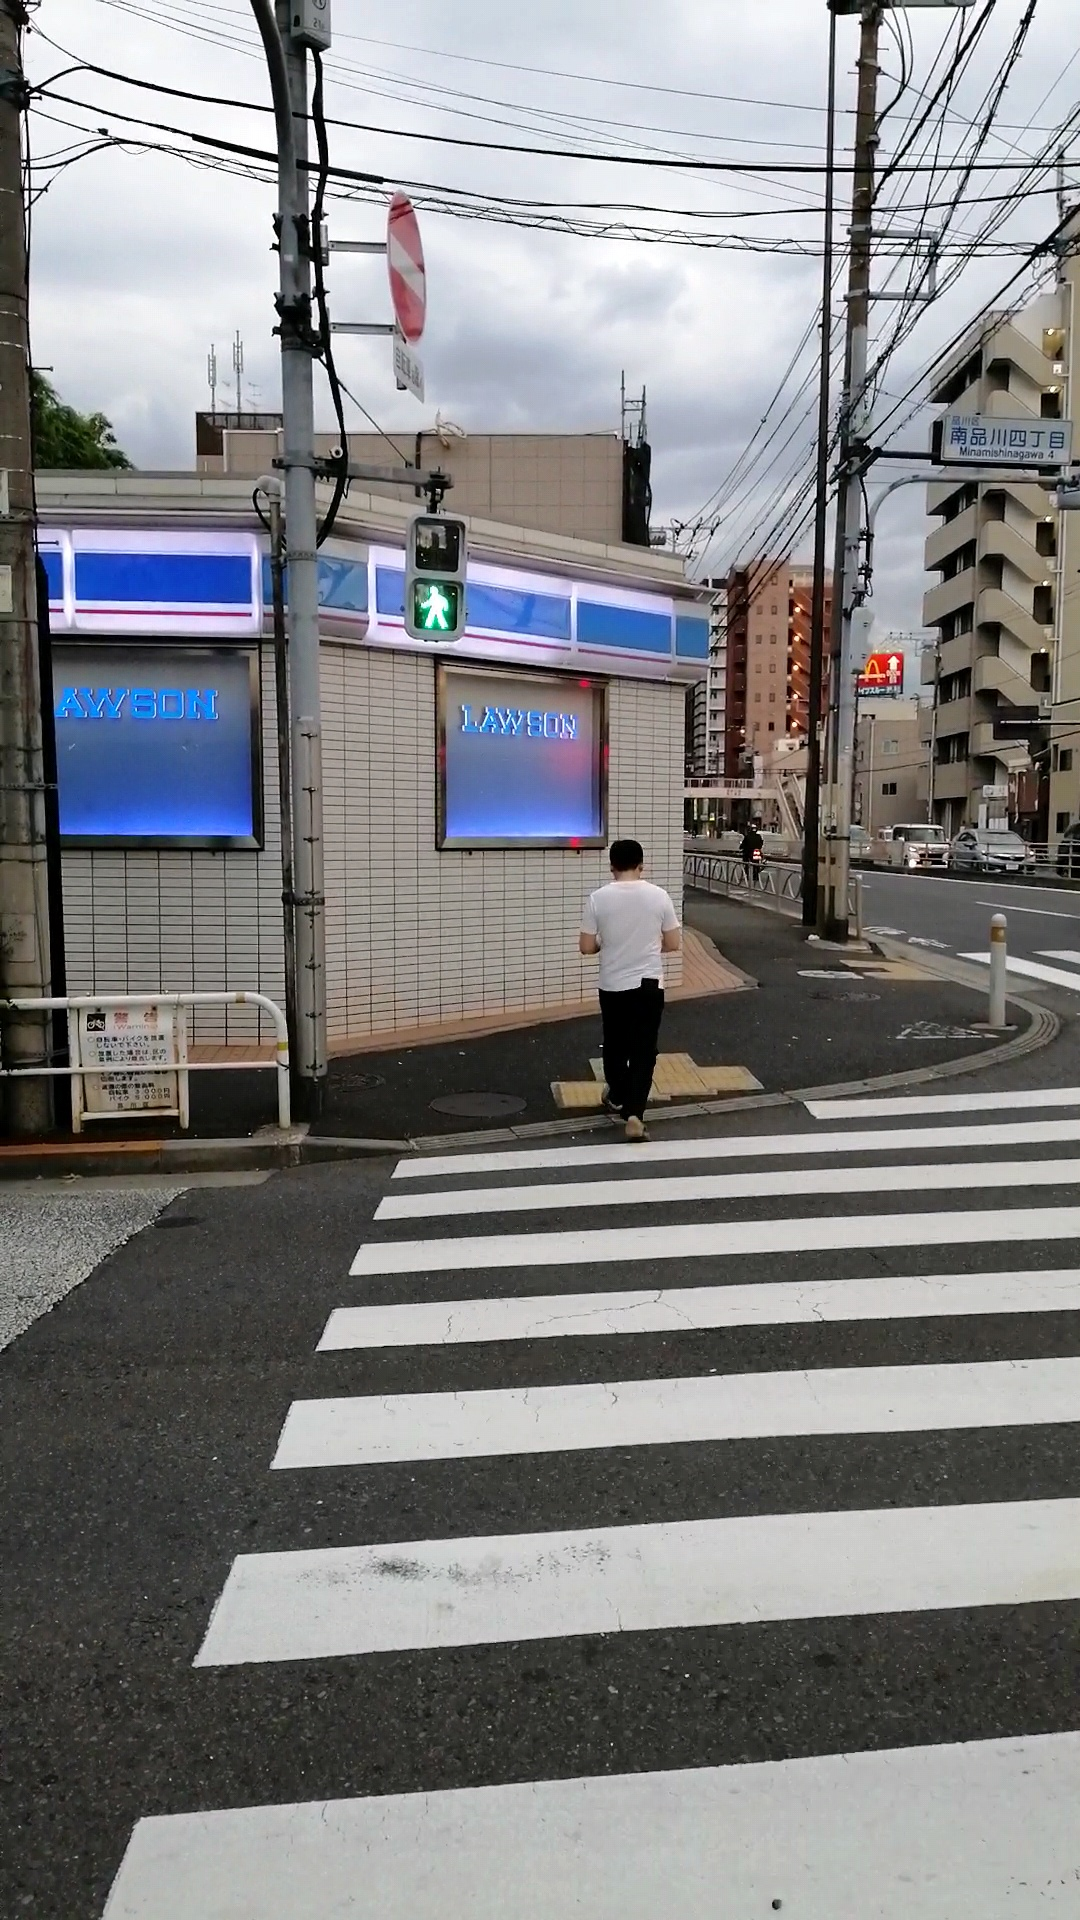green: (406, 512, 465, 642)
